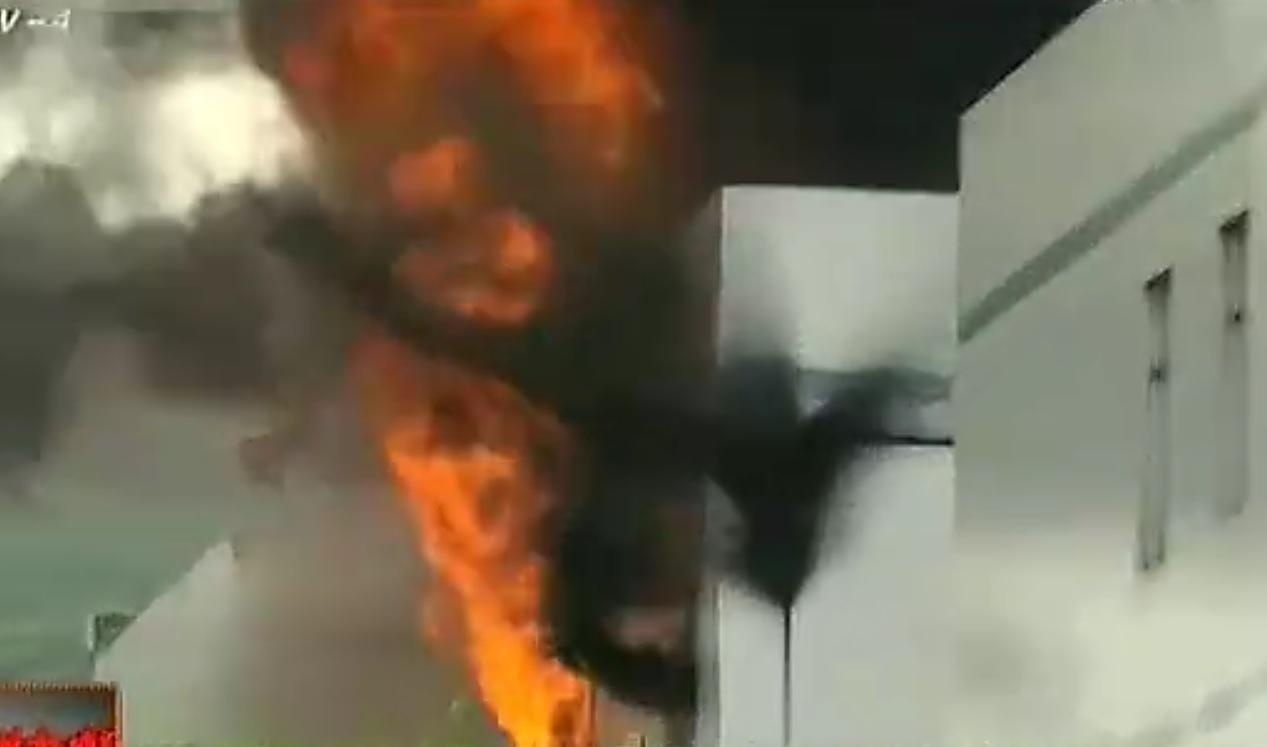fire: (290, 6, 654, 307), (370, 360, 597, 747)
